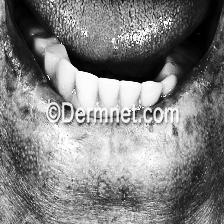Benign Marking or Mole: (4, 58, 32, 123)
